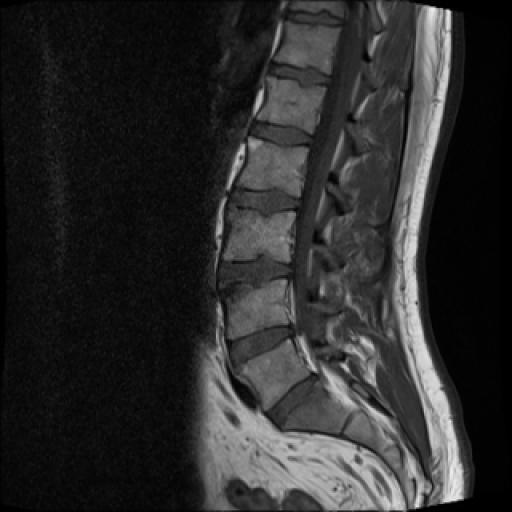L1: (257, 76, 326, 134)
L2: (236, 135, 310, 199)
L3: (224, 209, 296, 262)
L4: (225, 278, 291, 341)
L5: (236, 339, 311, 410)
S1: (284, 380, 352, 434)
